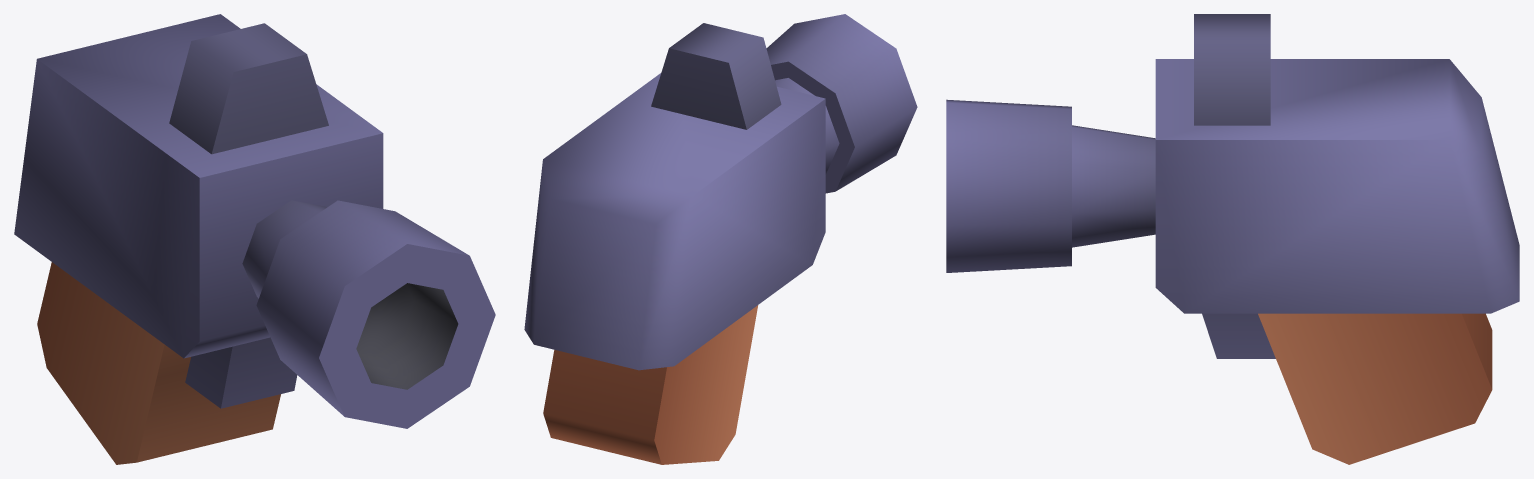
Rendered from weapon-shooter.obj.
3 views of the same model, side by side, from view 1: azimuth 30°, elevation 25°; view 2: azimuth 150°, elevation 25°; view 3: azimuth 270°, elevation 25° (orthographic). The views are drawn at different scales.
Visible parts, largest first — view 1: weapon-shooter; view 2: weapon-shooter; view 3: weapon-shooter.
Part boxes in pixels (box(x1,y1,x2,y2)): weapon-shooter: box(14, 14, 495, 464); weapon-shooter: box(524, 14, 917, 464); weapon-shooter: box(946, 14, 1519, 464).
Bounding box in the file's own units: 0.1 × 0.2332 × 0.2992.
Materials: 1 (1 with a texture image).
